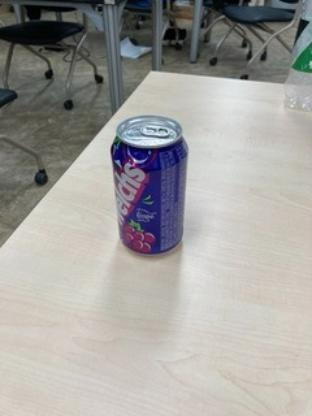Can: (109, 112, 189, 260)
